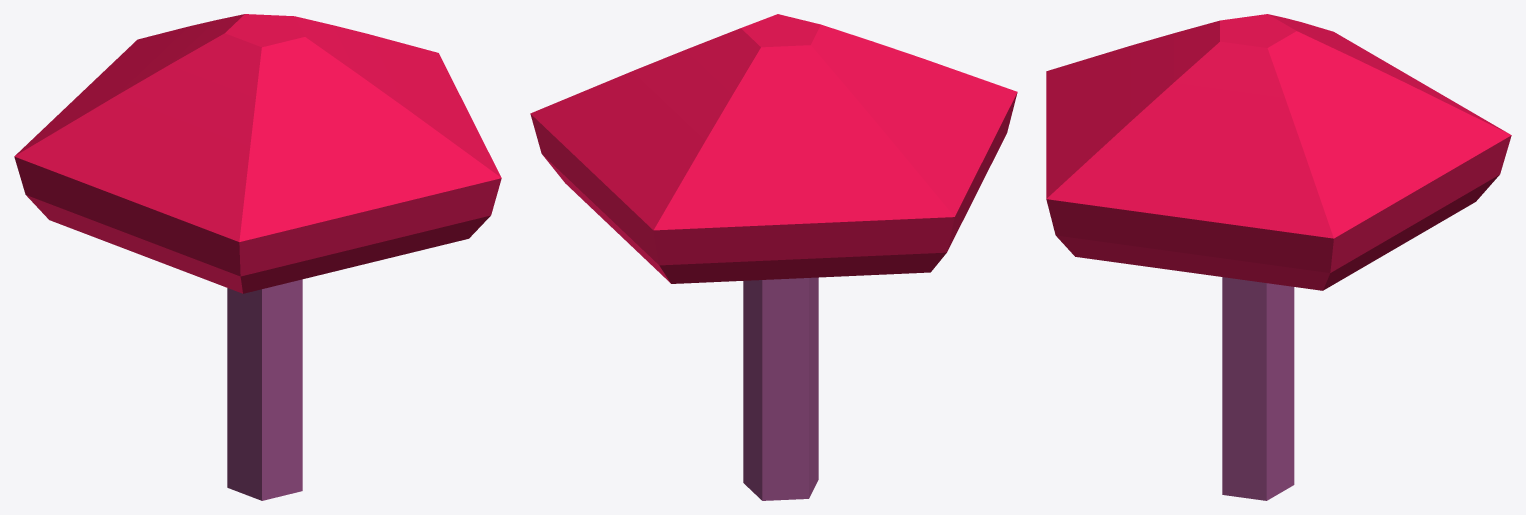
Rendered from Mushroom_01.glb.
The picture shows the model from 3 angles, left to right: view 1: azimuth 30°, elevation 25°; view 2: azimuth 150°, elevation 25°; view 3: azimuth 270°, elevation 25°; orthographic projection.
Parts seen in each view (by area): view 1: Mushroom_01; view 2: Mushroom_01; view 3: Mushroom_01.
Boxes of the visible parts, <box> form: Mushroom_01: <box>14,14,501,500</box>; Mushroom_01: <box>530,14,1017,500</box>; Mushroom_01: <box>1046,14,1511,500</box>.
Size of the model in its own units: 0.2115 by 0.2165 by 0.2012.
Materials: 1 (1 with a texture image).
